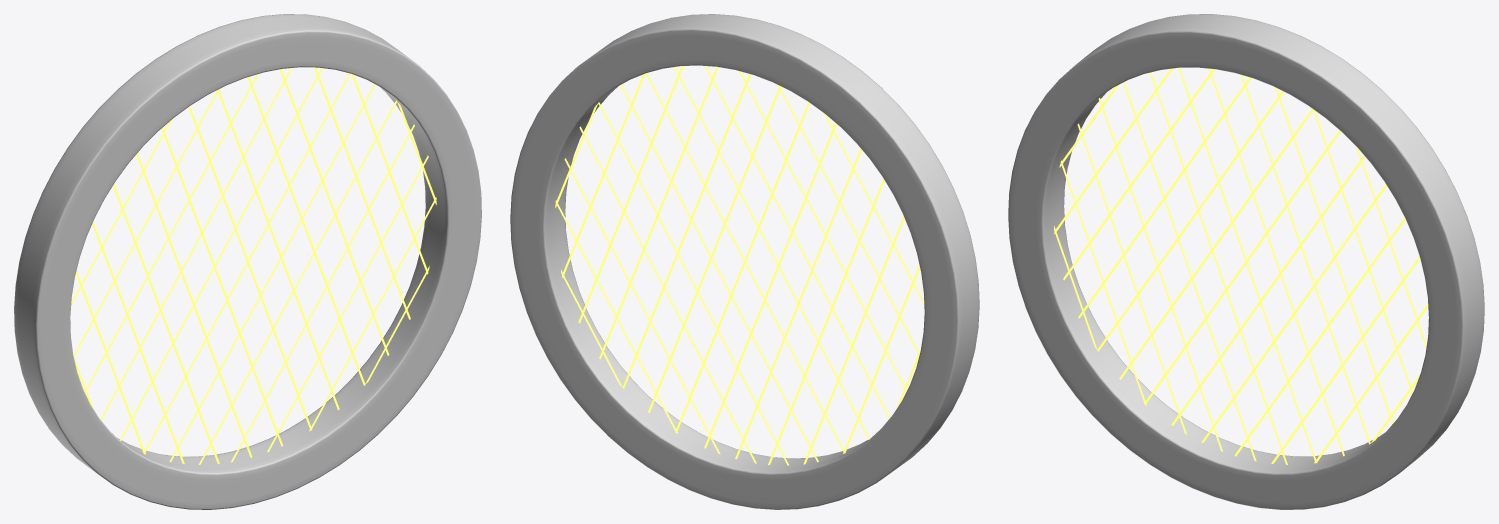
3 views of the same model, side by side, from view 1: azimuth 30°, elevation 25°; view 2: azimuth 150°, elevation 25°; view 3: azimuth 330°, elevation 25° (orthographic).
Parts seen in each view (by area): view 1: frame, window; view 2: frame, window; view 3: frame, window.
Boxes of the visible parts, x1,y1,x2,y2 form: frame: [14, 14, 481, 509]; window: [71, 67, 436, 464]; frame: [510, 14, 979, 509]; window: [555, 66, 924, 465]; frame: [1008, 14, 1484, 509]; window: [1054, 67, 1428, 464].
Bounding box in the file's own units: 174 × 174 × 20.13.
